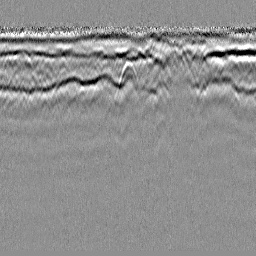cavity: (114, 60, 142, 100)
